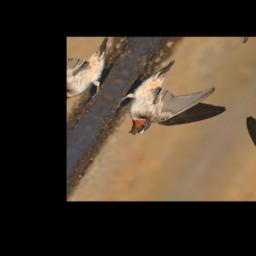Swallow: (104, 51, 244, 158)
